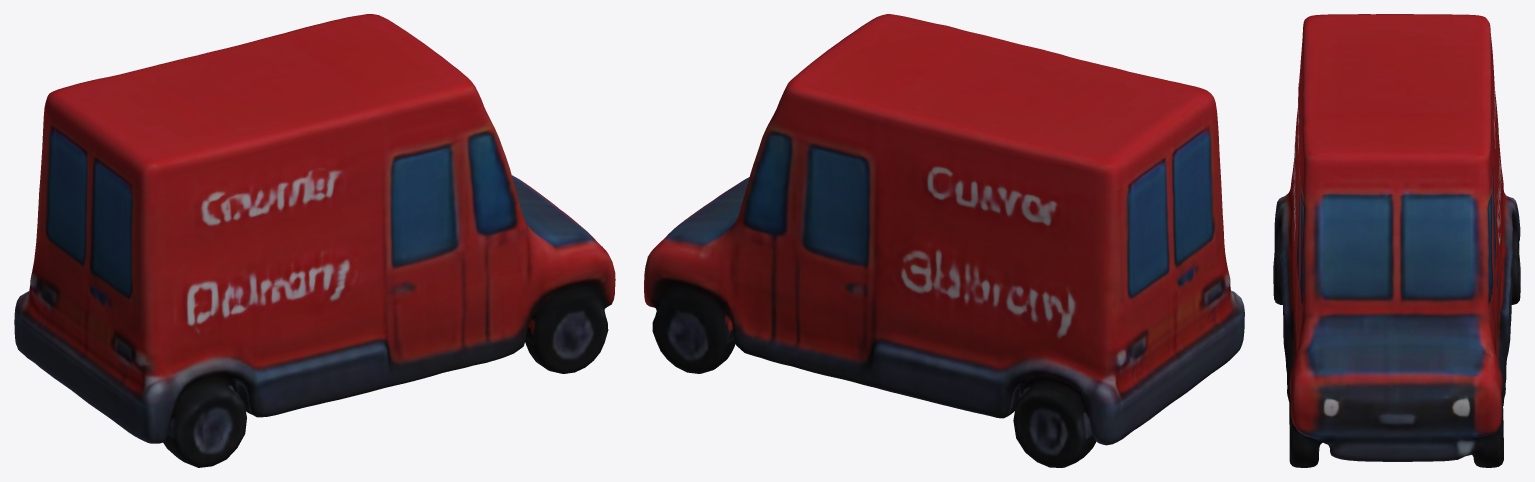
Rendered from c329038f8c9d_Courier_delivery_tr.fbx.
3 renders of one model, left to right at view 1: azimuth 30°, elevation 25°; view 2: azimuth 150°, elevation 25°; view 3: azimuth 270°, elevation 25°, orthographic. The views are drawn at different scales.
Parts seen in each view (by area): view 1: mesh; view 2: mesh; view 3: mesh.
Part boxes in pixels (bbox=[...]): mesh: bbox=[14, 14, 615, 467]; mesh: bbox=[644, 14, 1244, 467]; mesh: bbox=[1273, 14, 1520, 467].
Bounding box in the file's own units: 99.9 × 60.38 × 49.79.
